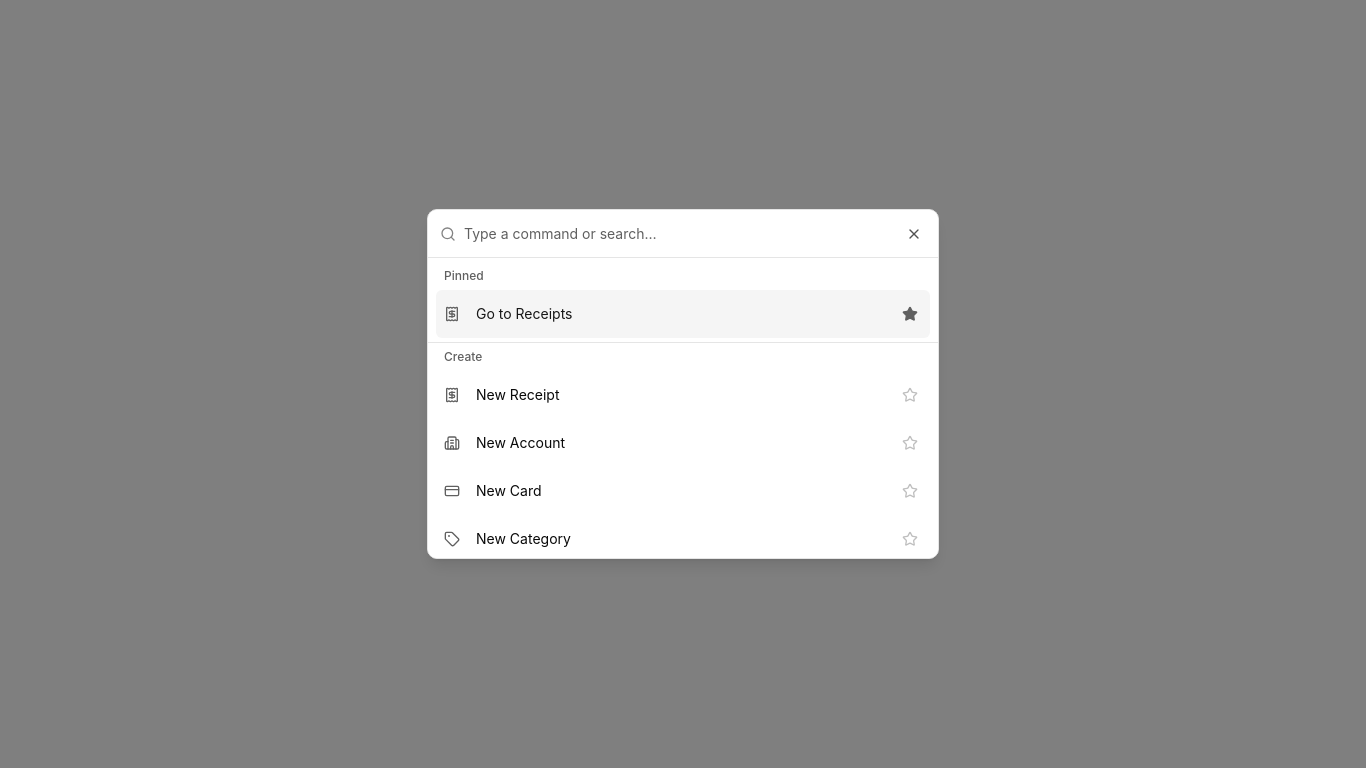
Test: CommandPalette › clicking the pin button on a pinned command unpins it
expect the text "Pinned" is shown: met, box [444,268,484,283]
What coordinates should you click on to do the following:
click the button named "unpin Go to Receipts"
I would click on:
 (910, 314)
Its box is [898,302,922,326].
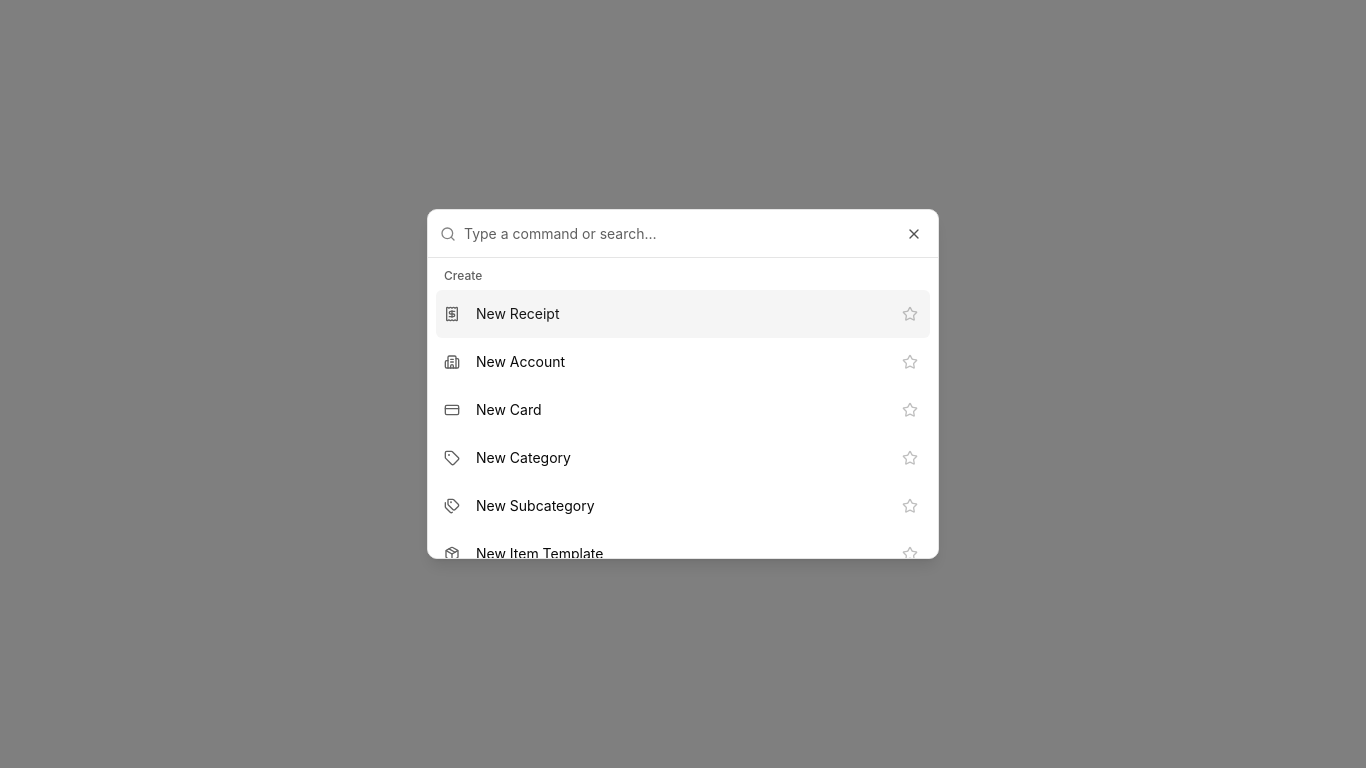
expect the text "Pinned" is gone: met
